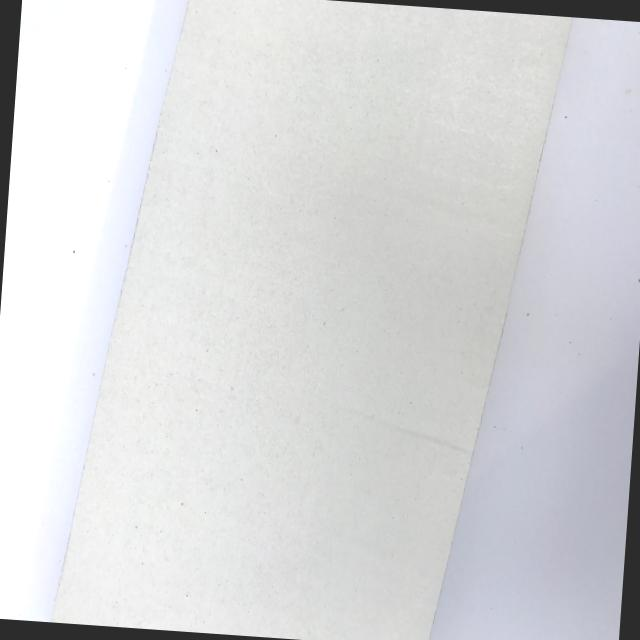Cardboard: (36, 0, 581, 640)
